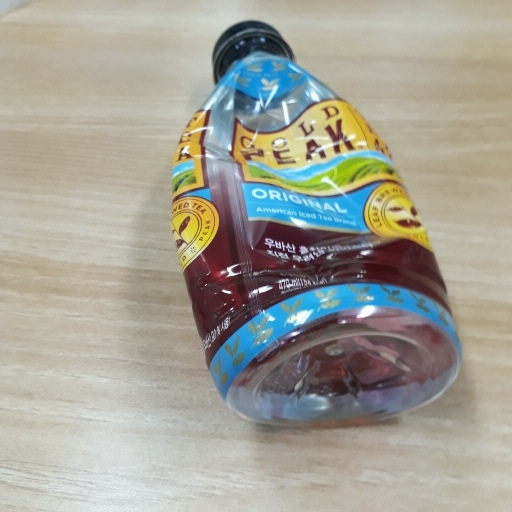Plastic_0: (173, 19, 461, 438)
